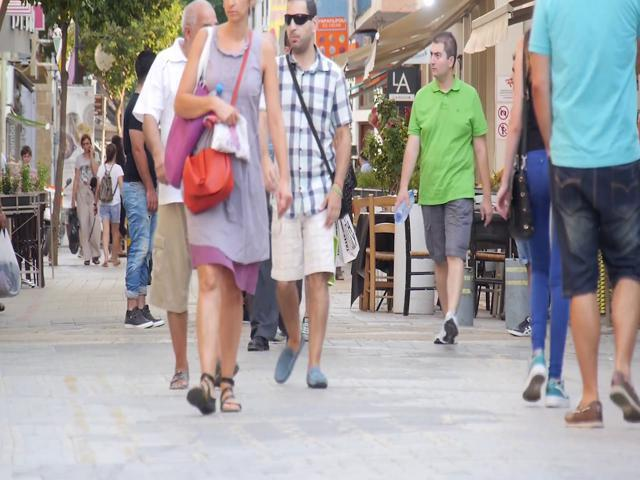shoe: (610, 372, 640, 422), (275, 334, 305, 383), (522, 352, 546, 401), (187, 375, 216, 414), (565, 402, 603, 429), (218, 379, 242, 412), (123, 307, 154, 329), (547, 380, 571, 407), (304, 366, 327, 387), (169, 366, 189, 390), (441, 318, 458, 343)
